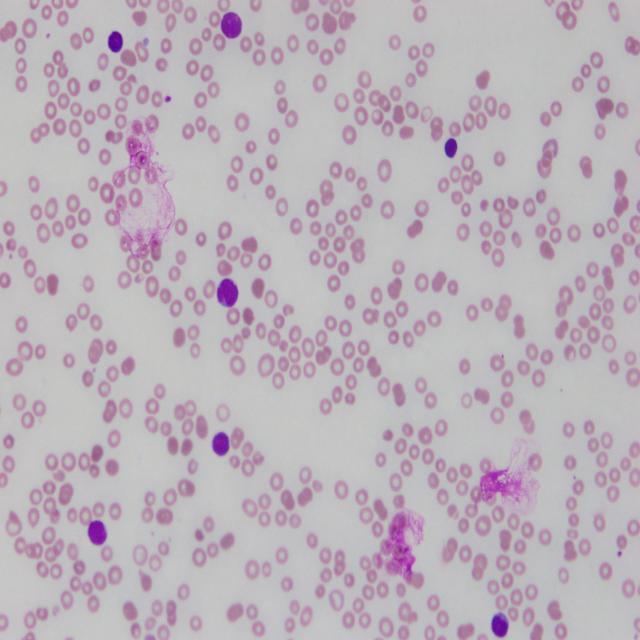cell: (221, 12, 242, 38), (88, 520, 108, 545), (491, 613, 509, 637), (212, 432, 230, 456), (108, 32, 122, 52), (445, 138, 458, 158)
